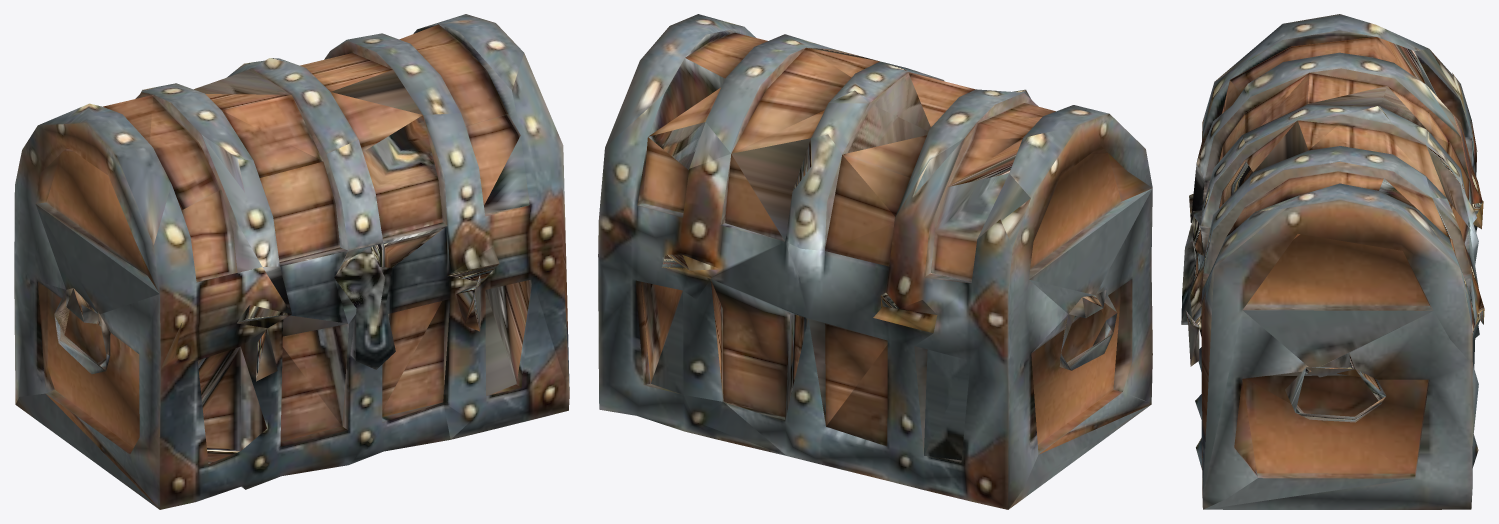
The model's file is treasure-chest.glb.
3 views of the same model, side by side, from view 1: azimuth 30°, elevation 25°; view 2: azimuth 150°, elevation 25°; view 3: azimuth 270°, elevation 25° (orthographic). The views are drawn at different scales.
Bounding box in the file's own units: 2 × 1.44 × 1.28.
Materials: 1 (1 with a texture image).
